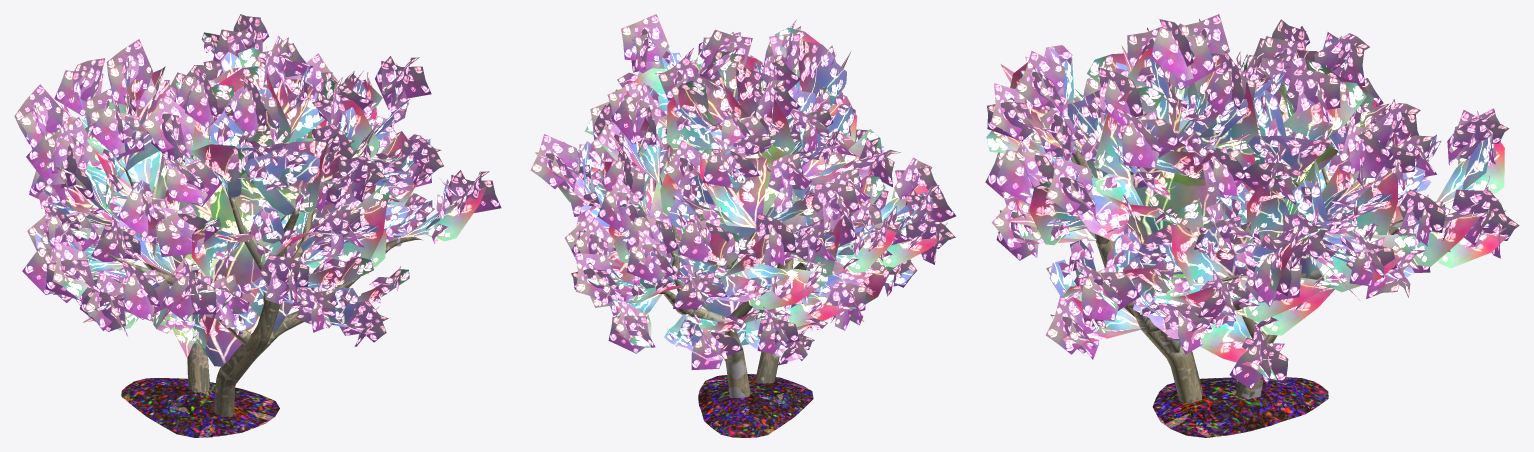
File: magnolia_03_SM.fbx
3 renders of one model, left to right at view 1: azimuth 30°, elevation 25°; view 2: azimuth 150°, elevation 25°; view 3: azimuth 270°, elevation 25°, orthographic. The views are drawn at different scales.
Visible parts, largest first — view 1: magnolia_03_SM_LOD0; view 2: magnolia_03_SM_LOD0; view 3: magnolia_03_SM_LOD0.
Boxes of the visible parts, <box> form: magnolia_03_SM_LOD0: <box>14,14,501,437</box>; magnolia_03_SM_LOD0: <box>530,14,955,437</box>; magnolia_03_SM_LOD0: <box>985,14,1519,437</box>.
Bounding box in the file's own units: 821 × 820 × 728.
Materials: 3 (3 with a texture image).
